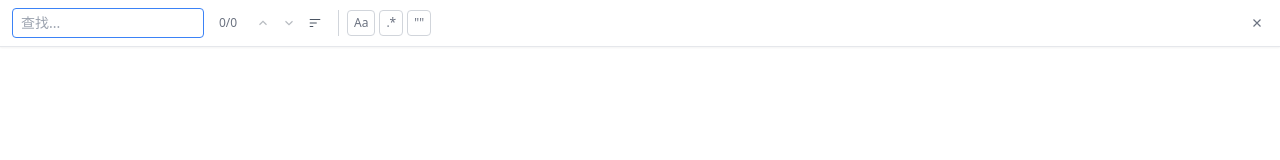
it: FindBar › 全词匹配开关
Type "Hell" into the field with placeholder "查找..." at x=108, y=23, box left=12, top=8, right=204, bottom=38
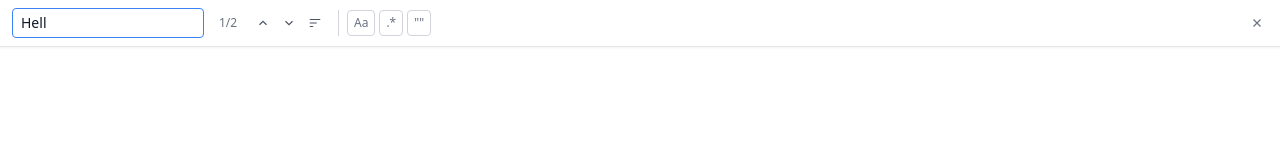
Now the text "1/2" is shown, box left=219, top=14, right=237, bottom=31
Click the button titled "全词匹配" at x=419, y=23, box left=407, top=10, right=431, bottom=36
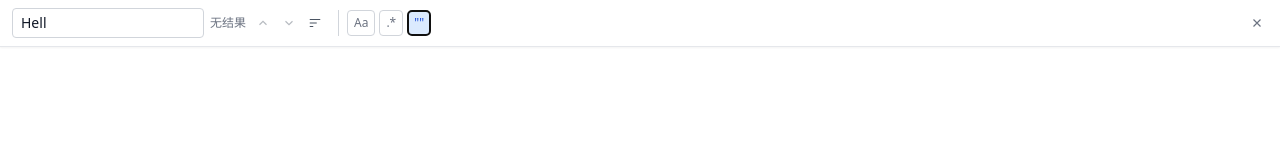
Now the text "无结果" is shown, box left=208, top=15, right=248, bottom=31
